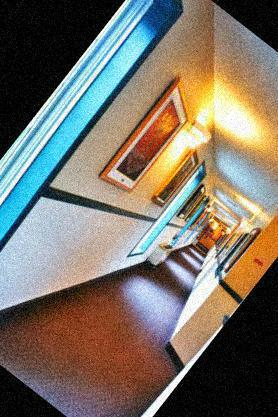Otro Obstaculo: (144, 240, 176, 274)
